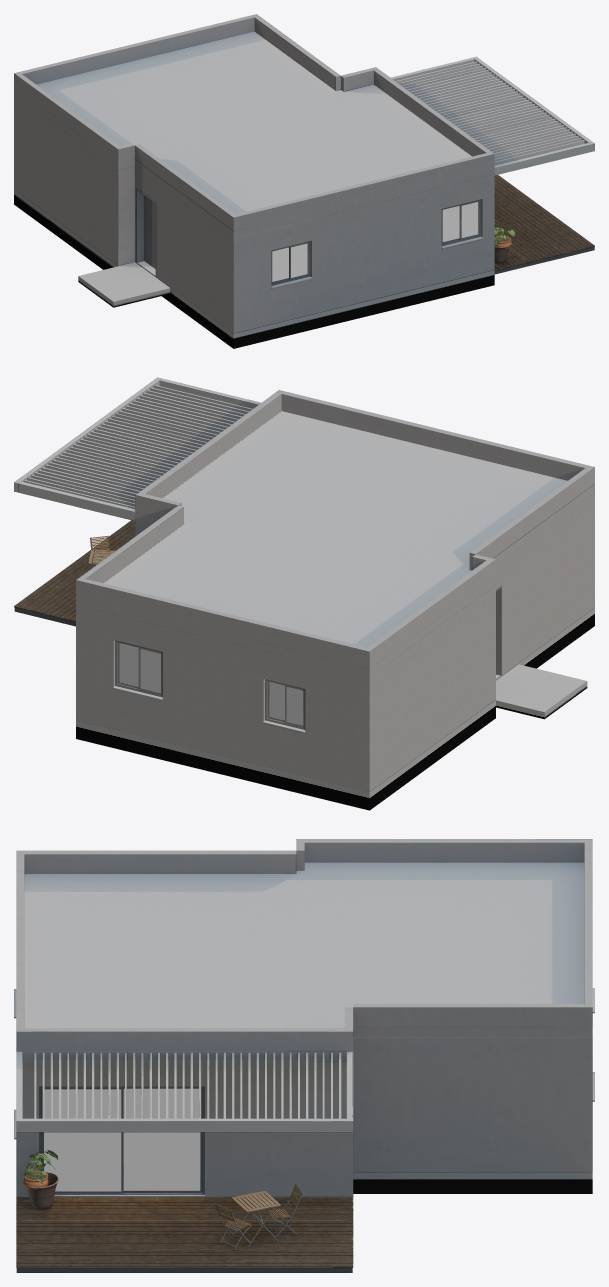
Rendered from walk.gltf.
The picture shows the model from 3 angles, top to bottom: view 1: azimuth 30°, elevation 25°; view 2: azimuth 150°, elevation 25°; view 3: azimuth 270°, elevation 25°; orthographic projection. The views are drawn at different scales.
Parts seen in each view (by area): view 1: WALK_group_2, WALK_group_0, WALK_group_4, WALK_group_3, WALK_group_1, WALK_group_5, win-living_glass0, win-living_glass1, win-kitchen_glass0, win-kitchen_glass1; view 2: WALK_group_2, WALK_group_0, WALK_group_4, WALK_group_3, WALK_group_1, WALK_group_5, win-bedroom_glass0, win-bedroom_glass1, win-saferoom_glass0, win-saferoom_glass1; view 3: WALK_group_2, WALK_group_0, WALK_group_4, WALK_group_5, WALK_group_3, door-sliding_glass0, door-sliding_glass1, WALK_group_1.
Boxes of the visible parts, <box> form: WALK_group_2: <box>14,31,494,285</box>; WALK_group_0: <box>14,94,494,333</box>; WALK_group_4: <box>14,14,594,288</box>; WALK_group_3: <box>78,63,594,307</box>; WALK_group_1: <box>14,189,494,348</box>; WALK_group_5: <box>144,57,590,285</box>; win-living_glass0: <box>442,206,459,241</box>; win-living_glass1: <box>461,202,478,237</box>; win-kitchen_glass0: <box>272,247,288,281</box>; win-kitchen_glass1: <box>291,243,307,277</box>; WALK_group_2: <box>76,411,594,697</box>; WALK_group_0: <box>76,492,594,791</box>; WALK_group_4: <box>14,377,594,722</box>; WALK_group_3: <box>14,387,587,732</box>; WALK_group_1: <box>76,607,594,810</box>; WALK_group_5: <box>19,392,501,727</box>; win-bedroom_glass0: <box>140,649,160,692</box>; win-bedroom_glass1: <box>119,643,138,686</box>; win-saferoom_glass0: <box>286,687,303,725</box>; win-saferoom_glass1: <box>269,681,284,720</box>; WALK_group_2: <box>22,862,592,1089</box>; WALK_group_0: <box>16,1037,592,1196</box>; WALK_group_4: <box>14,839,592,1267</box>; WALK_group_5: <box>16,1051,594,1263</box>; WALK_group_3: <box>14,988,594,1272</box>; door-sliding_glass0: <box>123,1088,200,1190</box>; door-sliding_glass1: <box>44,1089,121,1191</box>; WALK_group_1: <box>16,1172,592,1197</box>.
Size of what is drawn, in the model's own units: 12.5 by 3.75 by 10.58.
Materials: 15 (11 with a texture image).
